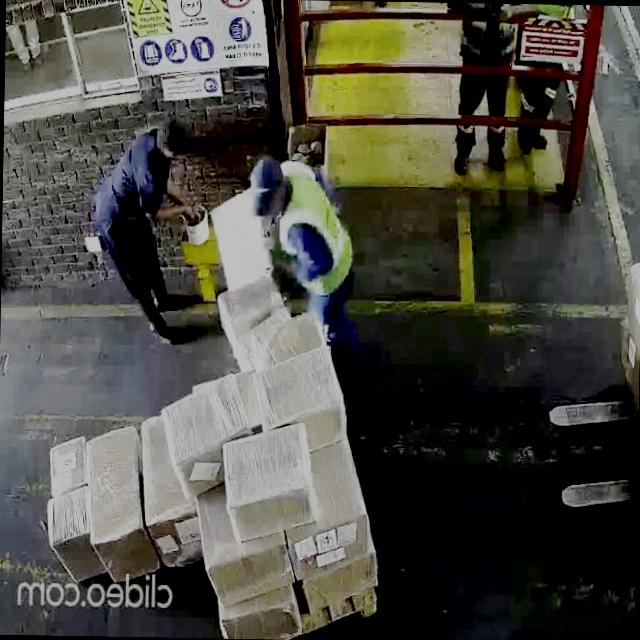Box: (215, 420, 312, 540), (256, 339, 348, 433), (92, 429, 146, 574), (164, 374, 243, 466), (290, 504, 371, 572), (210, 536, 290, 604), (304, 549, 379, 609), (50, 485, 94, 584), (224, 594, 298, 640), (43, 428, 89, 494)
